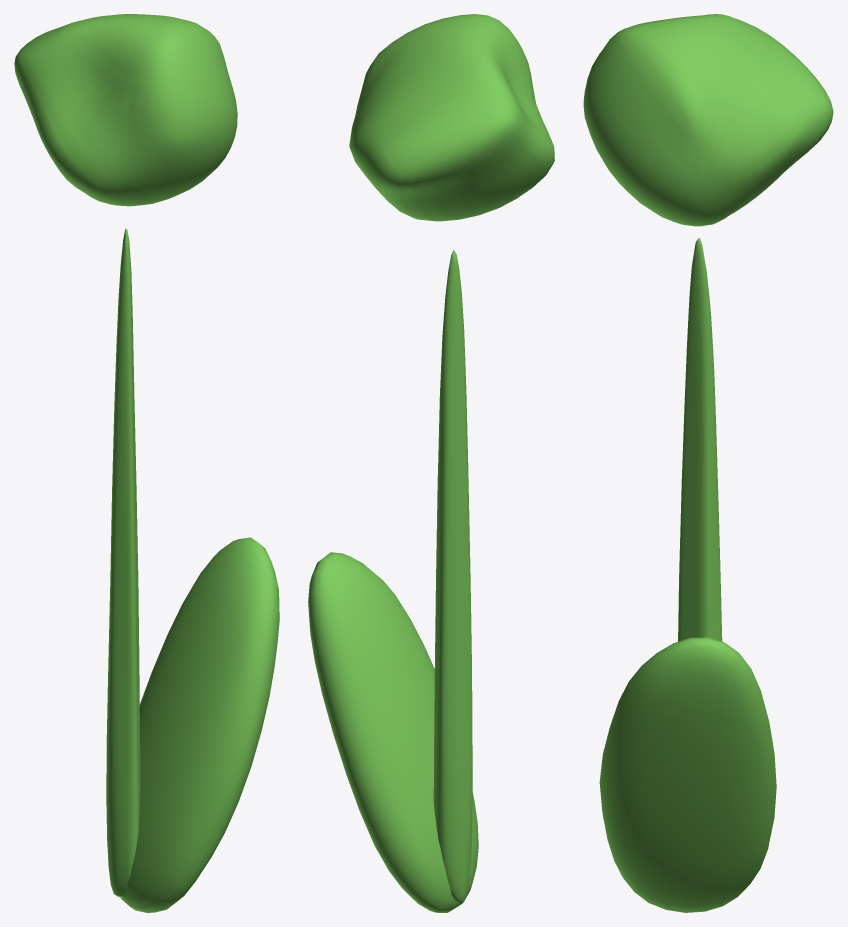
Rendered from fleur.fbx.
3 views of the same model, side by side, from view 1: azimuth 30°, elevation 25°; view 2: azimuth 150°, elevation 25°; view 3: azimuth 270°, elevation 25° (orthographic). The views are drawn at different scales.
Visible parts, largest first — view 1: Box0032; view 2: Box0032; view 3: Box0032.
Boxes of the visible parts, x1=… form: Box0032: x1=14, y1=14, x2=279, y2=912; Box0032: x1=308, y1=14, x2=554, y2=912; Box0032: x1=583, y1=14, x2=833, y2=912.
Bounding box in the file's own units: 1.01 × 3.82 × 0.9789.
